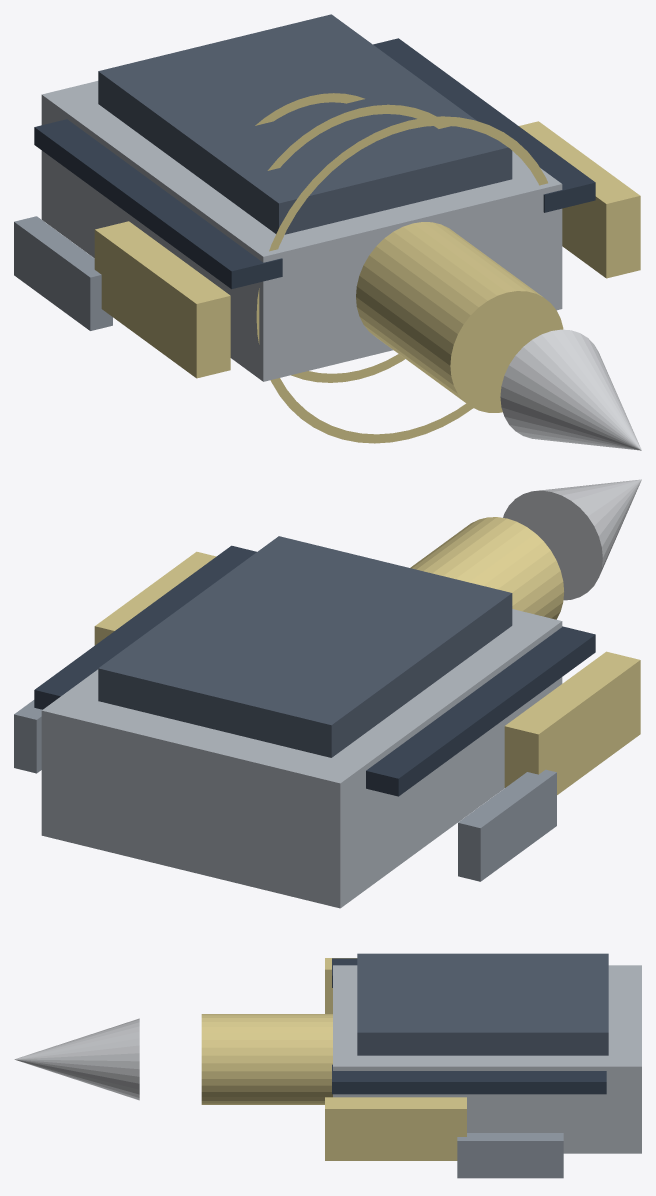
Rendered from arc-4.glb.
The picture shows the model from 3 angles, top to bottom: view 1: azimuth 30°, elevation 25°; view 2: azimuth 150°, elevation 25°; view 3: azimuth 270°, elevation 25°; orthographic projection. The views are drawn at different scales.
Visible parts, largest first — view 1: part001, part000, part002, part005, part003, part004, part008, part006, part007, part013, part012, part011; view 2: part000, part001, part005, part004, part002, part003, part006, part007, part008, part009; view 3: part001, part000, part002, part008, part007, part003, part009, part005.
Boxes of the visible parts, left/top/right/bottom form: part001: left=98, top=14, right=512, bottom=234; part000: left=41, top=81, right=562, bottom=381; part002: left=356, top=222, right=563, bottom=412; part005: left=94, top=221, right=230, bottom=378; part003: left=500, top=329, right=641, bottom=450; part004: left=34, top=119, right=282, bottom=289; part008: left=519, top=121, right=640, bottom=278; part006: left=14, top=216, right=112, bottom=330; part007: left=373, top=38, right=595, bottom=212; part013: left=256, top=116, right=547, bottom=443; part012: left=267, top=104, right=450, bottom=382; part011: left=255, top=93, right=364, bottom=125; part000: left=41, top=609, right=562, bottom=908; part001: left=98, top=536, right=512, bottom=757; part005: left=504, top=651, right=640, bottom=794; part004: left=366, top=626, right=595, bottom=796; part002: left=410, top=517, right=563, bottom=619; part003: left=503, top=479, right=641, bottom=600; part006: left=458, top=769, right=556, bottom=881; part007: left=34, top=545, right=256, bottom=709; part008: left=94, top=551, right=216, bottom=645; part009: left=14, top=700, right=42, bottom=773; part001: left=357, top=953, right=608, bottom=1055; part000: left=333, top=965, right=641, bottom=1153; part002: left=201, top=1014, right=332, bottom=1104; part008: left=325, top=1097, right=466, bottom=1160; part007: left=332, top=1064, right=606, bottom=1094; part003: left=14, top=1018, right=139, bottom=1100; part009: left=457, top=1133, right=563, bottom=1178; part005: left=325, top=958, right=356, bottom=1013.
Bounding box in the file's own units: 1.64 × 1.07 × 2.75.
